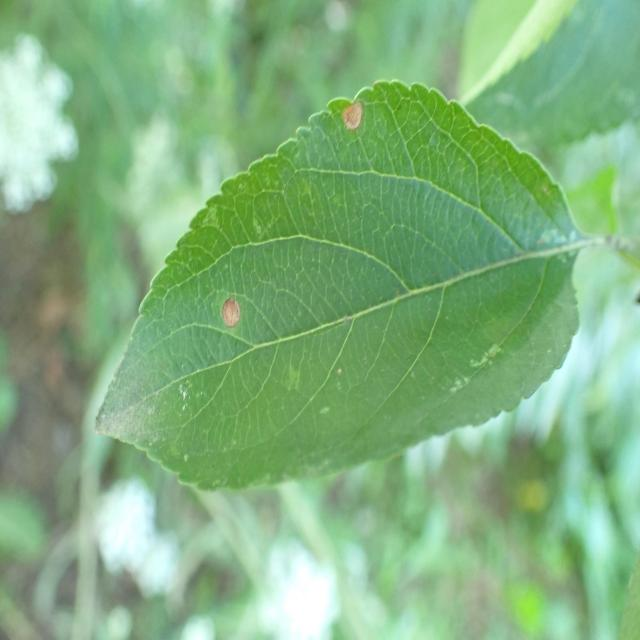Black Rot: (216, 278, 254, 332), (337, 85, 369, 137)
